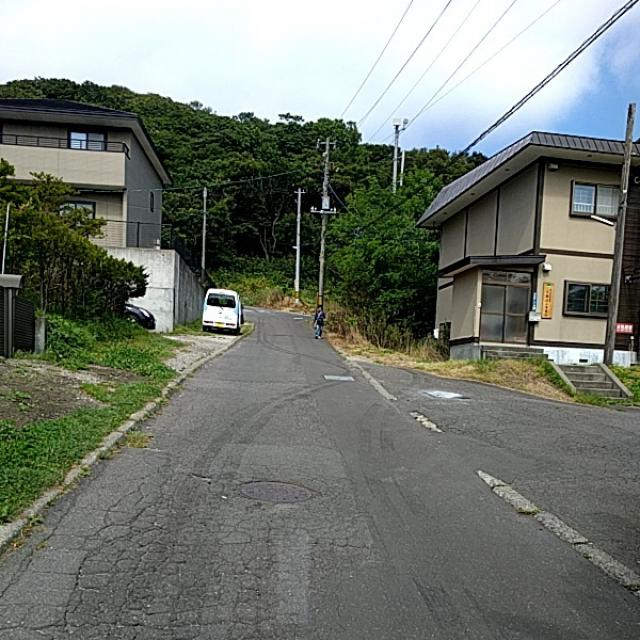pothole: (59, 531, 266, 639), (264, 386, 388, 437)
